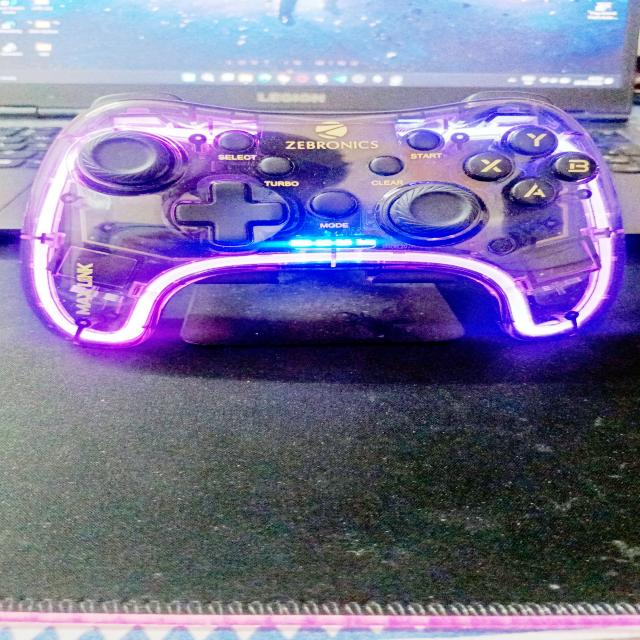gamepad: (19, 90, 626, 349)
